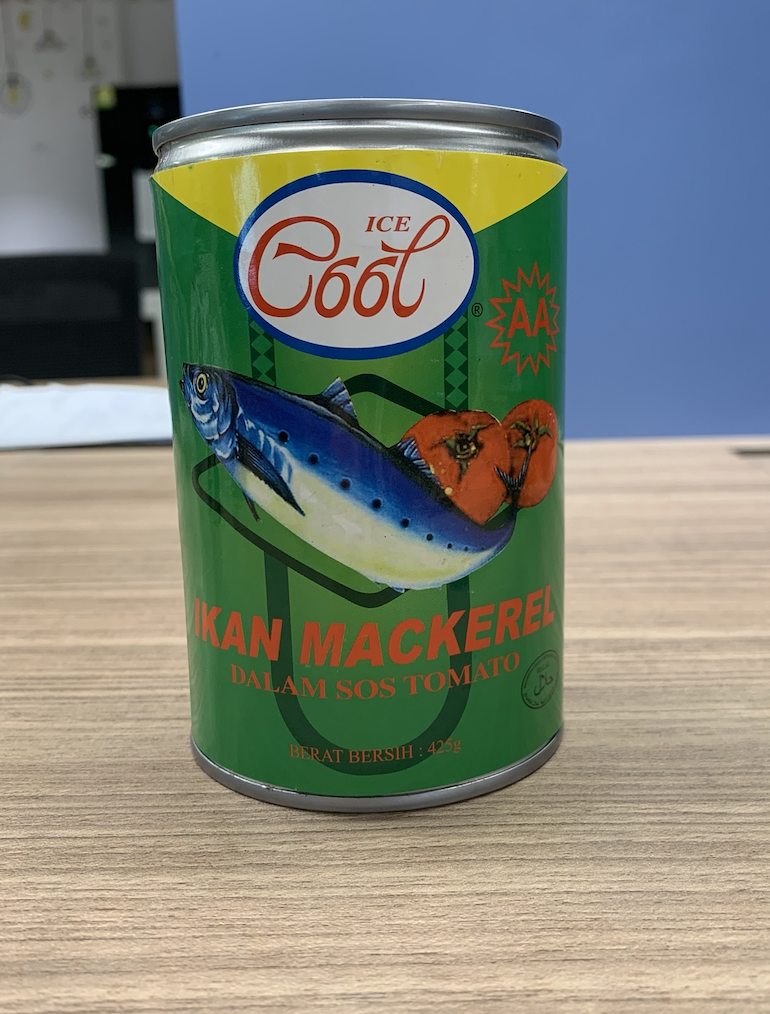sardines_450g: (179, 152, 552, 767)
